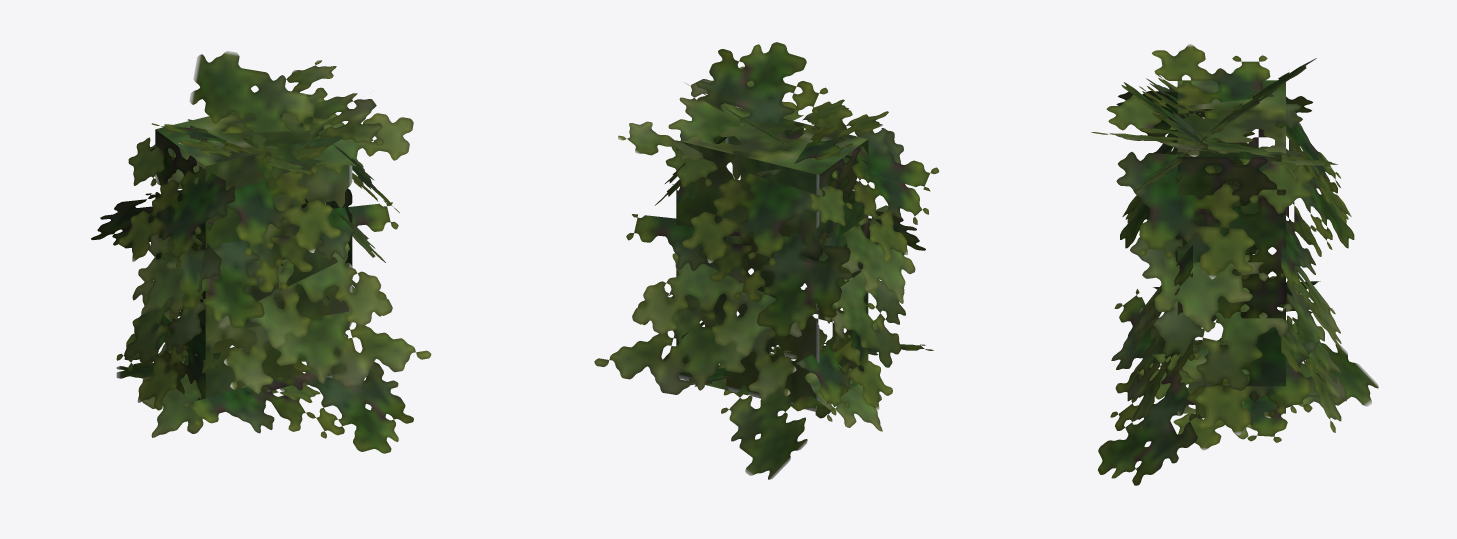
The model's file is vines_vertical_slab_small.obj.
3 renders of one model, left to right at view 1: azimuth 30°, elevation 25°; view 2: azimuth 150°, elevation 25°; view 3: azimuth 270°, elevation 25°, orthographic. The views are drawn at different scales.
Parts seen in each view (by area): view 1: cube; view 2: cube; view 3: cube.
Boxes of the visible parts, x1=… form: cube: x1=91, y1=51, x2=431, y2=453; cube: x1=594, y1=42, x2=939, y2=479; cube: x1=1091, y1=44, x2=1378, y2=485.
Size of the model in its own units: 1.63 by 1.55 by 1.45.
